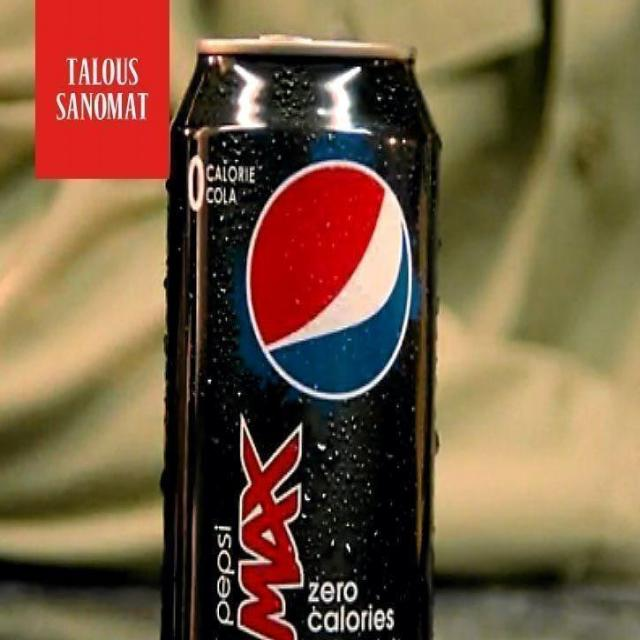tin can: (162, 34, 444, 639)
